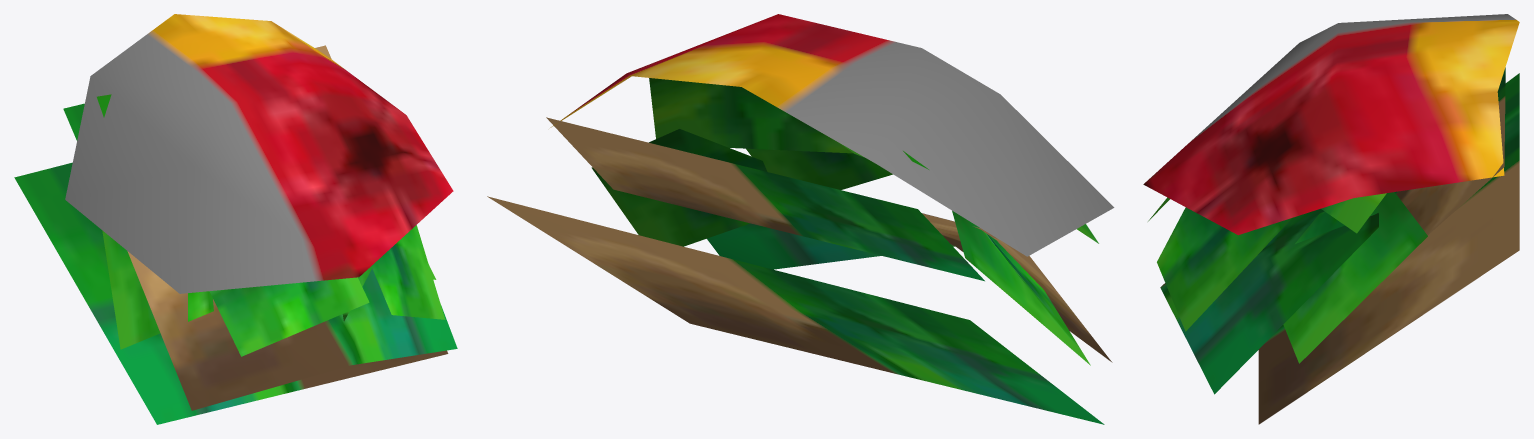
Rendered from fg_bushB_2_s.dae.
3 views of the same model, side by side, from view 1: azimuth 30°, elevation 25°; view 2: azimuth 150°, elevation 25°; view 3: azimuth 270°, elevation 25° (orthographic). The views are drawn at different scales.
Parts seen in each view (by area): view 1: fg_bushB_2_s; view 2: fg_bushB_2_s; view 3: fg_bushB_2_s.
Boxes of the visible parts, x1,y1,x2,y2 form: fg_bushB_2_s: (14, 14, 457, 424); fg_bushB_2_s: (487, 14, 1114, 424); fg_bushB_2_s: (1143, 14, 1519, 424).
Size of the model in its own units: 43.24 by 35.41 by 37.79.
1 material, 1 textured.
